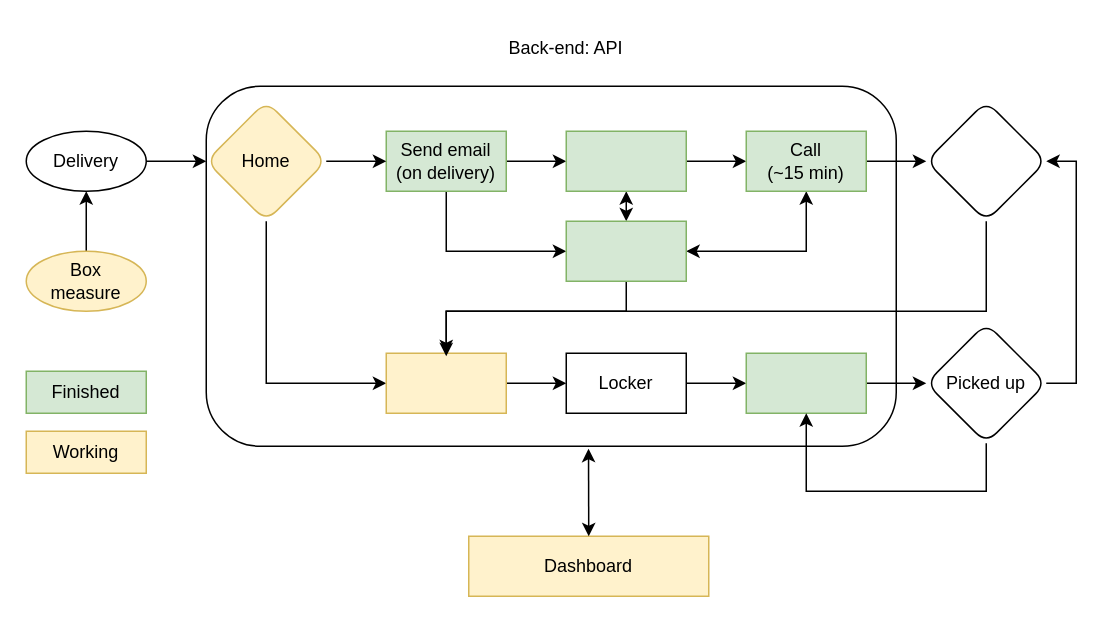
Image size: 1115x623. Some labels were removed from this diagram. Here are the shapes that lost their labels. From the top down, the centre of each, then its label:
At point 625,160: "Send SMS (~1 hour)".
At point 985,160: "Delivered".
At point 625,250: "Optimal route".
At point 445,382: "Closest locker".
At point 805,382: "Send email + Send SMS".
